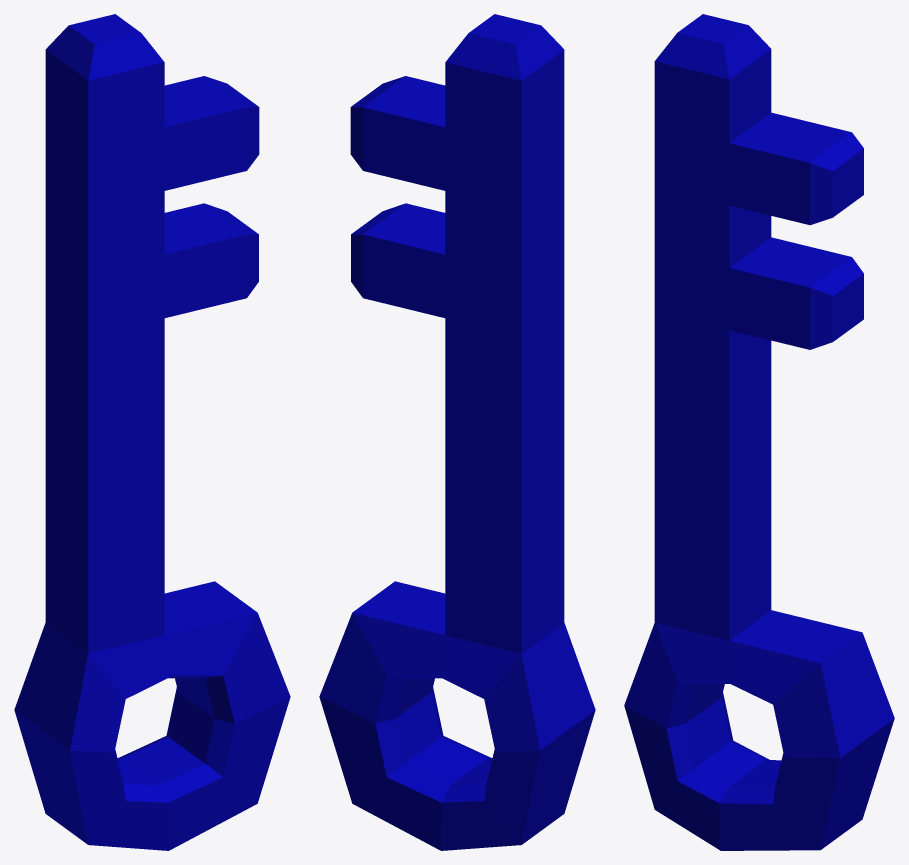
File: key_blue.glb
3 renders of one model, left to right at view 1: azimuth 30°, elevation 25°; view 2: azimuth 150°, elevation 25°; view 3: azimuth 330°, elevation 25°, orthographic. The views are drawn at different scales.
Visible parts, largest first — view 1: key_blue; view 2: key_blue; view 3: key_blue.
Boxes of the visible parts, <box> form: key_blue: <box>14,14,290,850</box>; key_blue: <box>319,14,595,850</box>; key_blue: <box>624,14,894,850</box>.
Size of the model in its own units: 0.604 by 2.12 by 0.2691.
1 material, 1 textured.
